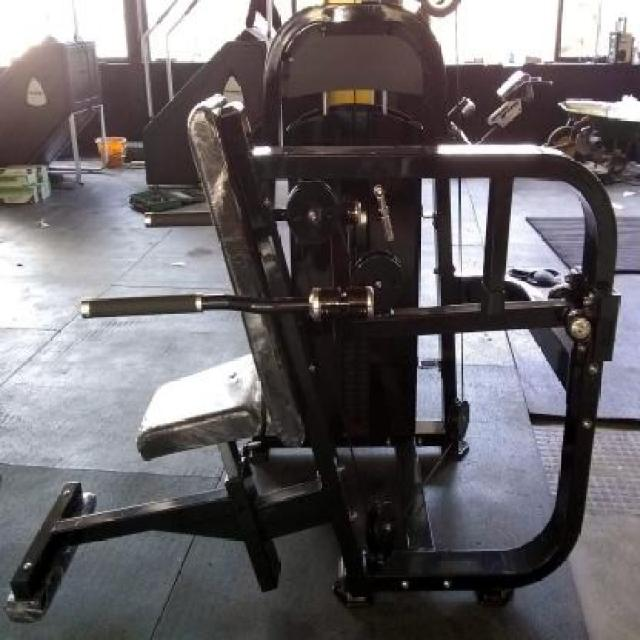seated dip machine: (4, 96, 622, 626)
